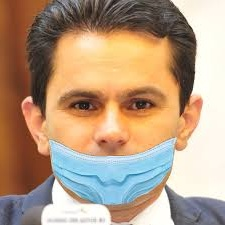mask_weared_incorrect: (31, 5, 183, 205)
